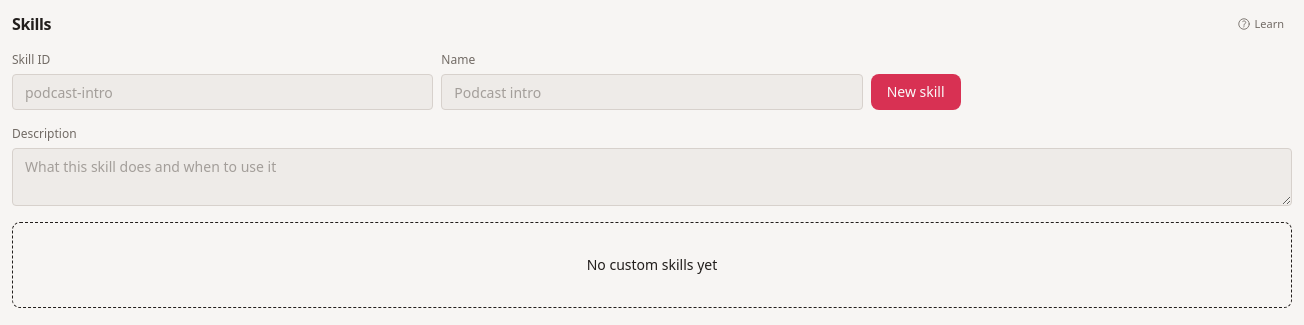
SkillsBrowser › creates and deletes through the client
The width and height of the screenshot is (1304, 325).
Later steps or results of the test are not shown.
Expected: the text "No custom skills yet" is shown, left=587, top=255, right=717, bottom=275
Type "outro" into the field labelled "Skill ID" at (223,92), box left=12, top=74, right=433, bottom=110
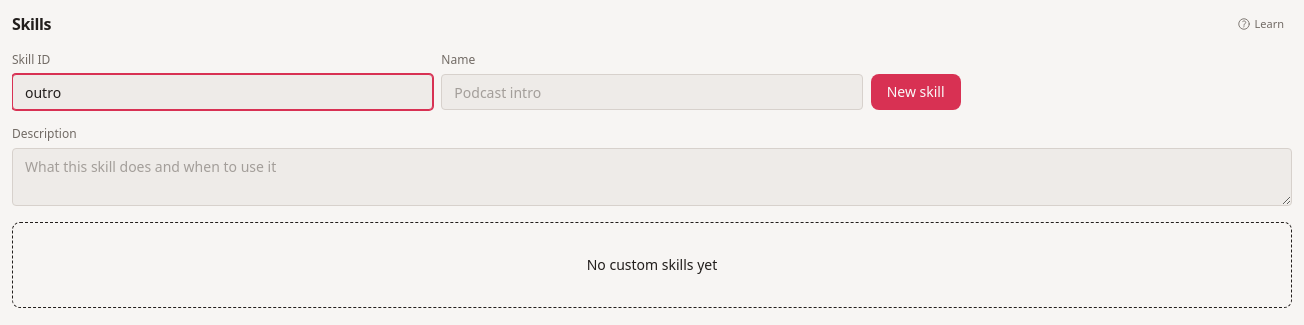
Type "Outro" into the field labelled "Name" at (652,92), box left=441, top=74, right=863, bottom=110
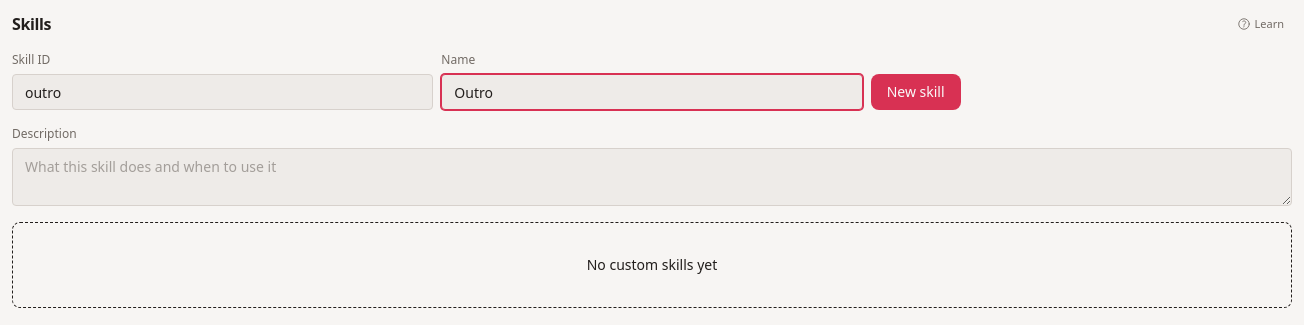
Click the button "New skill" at (916,92), box left=871, top=74, right=961, bottom=110
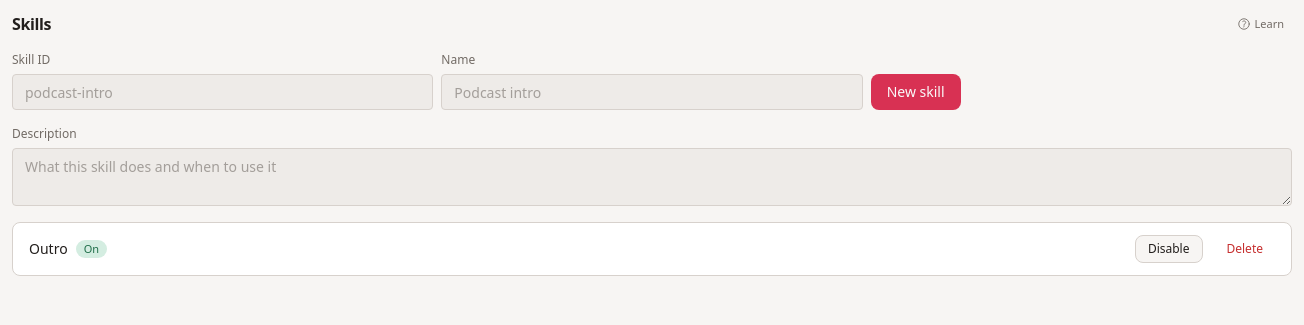
Expected: the text "Outro" is shown, left=29, top=239, right=68, bottom=258
